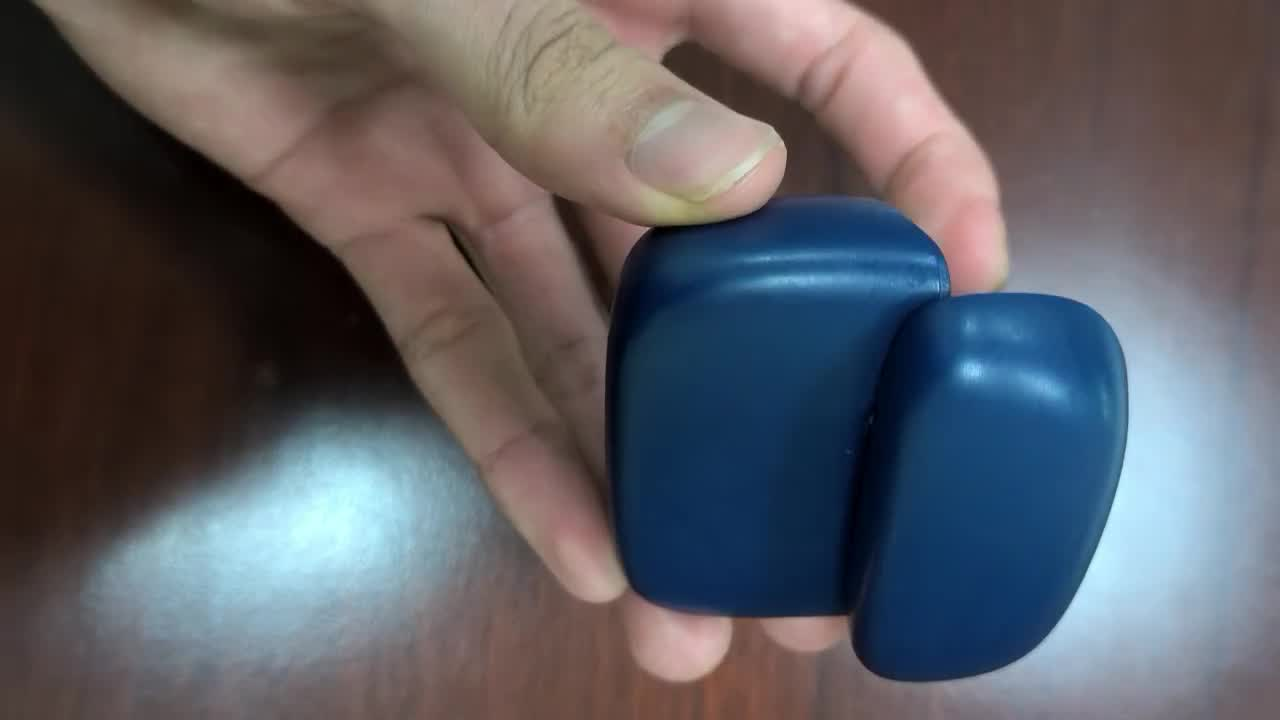Case: (606, 196, 1126, 679)
